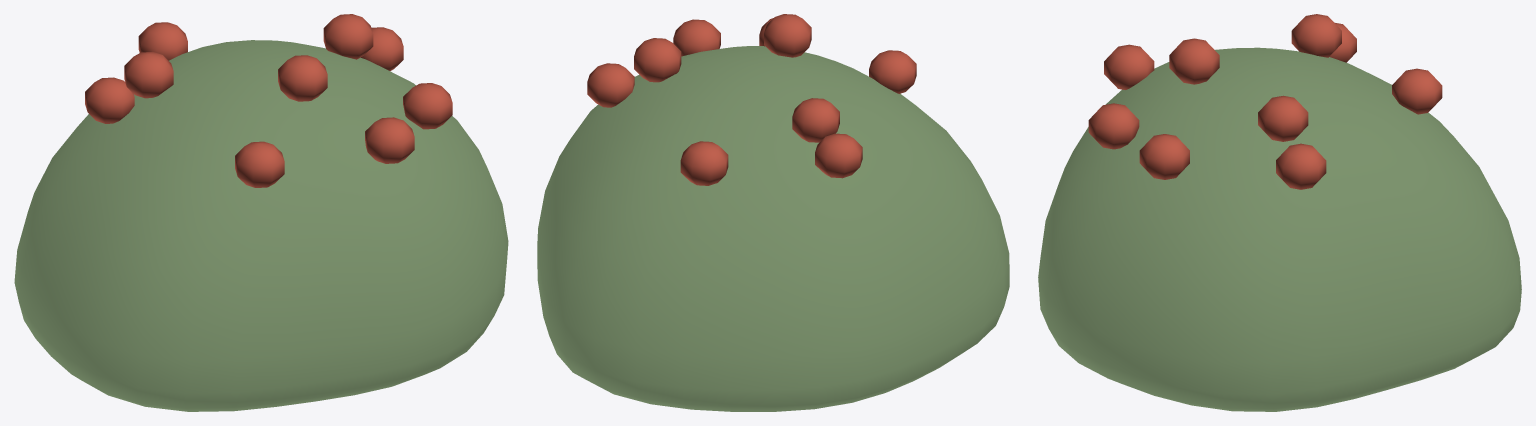
The model's file is berry.glb.
The picture shows the model from 3 angles, left to right: view 1: azimuth 30°, elevation 25°; view 2: azimuth 150°, elevation 25°; view 3: azimuth 270°, elevation 25°; orthographic projection. The views are drawn at different scales.
Visible parts, largest first — view 1: Leaves0, Berry5, Berry8, Berry0, Berry1, Berry3, Berry7, Berry2, Berry4, Berry6; view 2: Leaves0, Berry4, Berry7, Berry0, Berry2, Berry1, Berry6, Berry5, Berry3; view 3: Leaves0, Berry3, Berry6, Berry0, Berry2, Berry8, Berry4, Berry1, Berry5, Berry7.
Boxes of the visible parts, box(x1,y1,x2,y2) form: Leaves0: box(14, 40, 508, 411); Berry5: box(235, 141, 284, 187); Berry8: box(365, 117, 414, 163); Berry0: box(278, 55, 327, 101); Berry1: box(124, 51, 173, 98); Berry3: box(403, 83, 452, 129); Berry7: box(85, 77, 134, 123); Berry2: box(323, 14, 373, 59); Berry4: box(138, 22, 187, 60); Berry6: box(361, 27, 403, 70); Leaves0: box(537, 46, 1009, 411); Berry4: box(680, 141, 728, 185); Berry7: box(815, 133, 862, 178); Berry0: box(764, 14, 811, 57); Berry2: box(634, 38, 681, 82); Berry1: box(792, 98, 839, 142); Berry6: box(587, 63, 634, 107); Berry5: box(869, 50, 916, 93); Berry3: box(673, 19, 720, 56); Leaves0: box(1038, 47, 1521, 411); Berry3: box(1139, 134, 1189, 179); Berry6: box(1276, 143, 1326, 189); Berry0: box(1169, 38, 1219, 84); Berry2: box(1258, 95, 1308, 141); Berry8: box(1088, 103, 1139, 149); Berry4: box(1392, 68, 1442, 114); Berry1: box(1291, 14, 1341, 57); Berry5: box(1104, 44, 1154, 89); Berry7: box(1329, 22, 1356, 62).
Bounding box in the file's own units: 1.2 × 0.7891 × 1.19.
